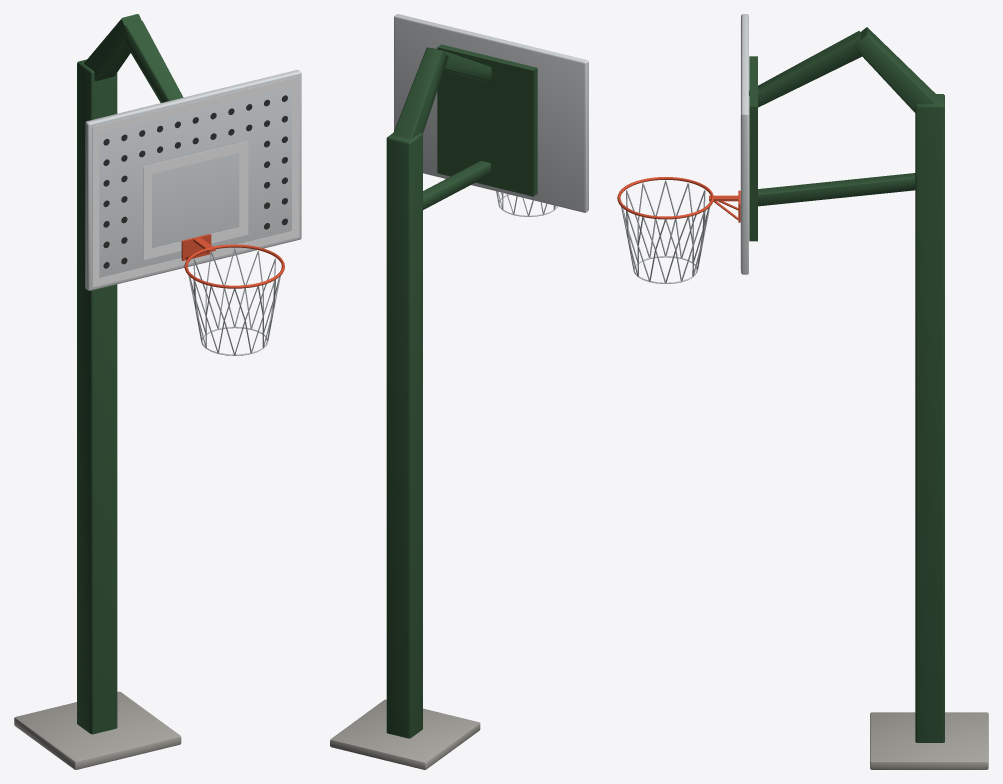
The model's file is vinish-street-hoop.glb.
3 renders of one model, left to right at view 1: azimuth 30°, elevation 25°; view 2: azimuth 150°, elevation 25°; view 3: azimuth 270°, elevation 25°, orthographic. The views are drawn at different scales.
Visible parts, largest first — view 1: Street_Hoop; view 2: Street_Hoop; view 3: Street_Hoop.
Part boxes in pixels (x1,y1,x2,y2): Street_Hoop: [14, 14, 301, 769]; Street_Hoop: [330, 14, 588, 769]; Street_Hoop: [617, 14, 988, 769].
Bounding box in the file's own units: 1.2 × 3.98 × 1.88.
